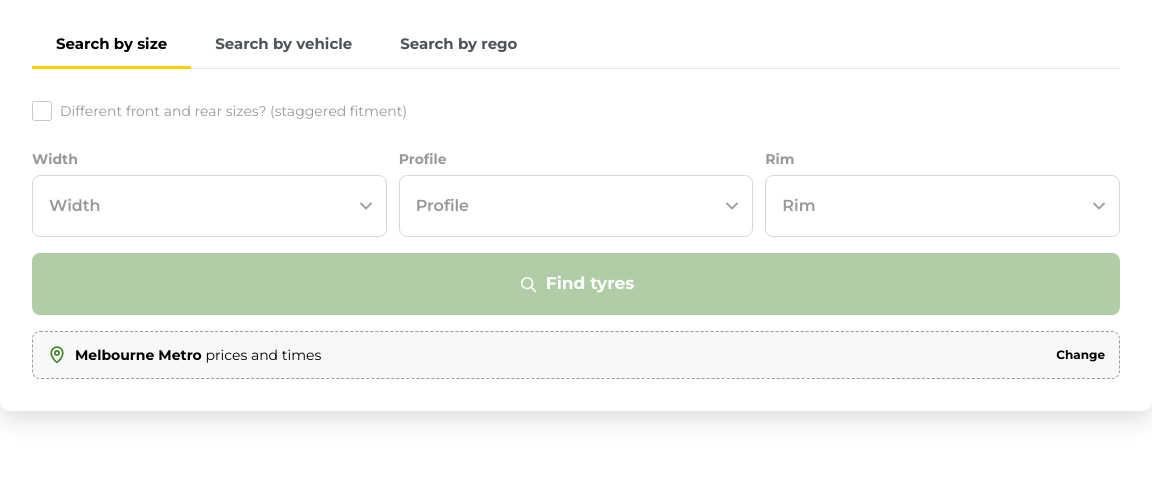
Test: Rego tab › asks for a plate, then a state
The image size is (1152, 504).
Click the tab "Search by rego" at (459, 45), box [376, 21, 542, 69]
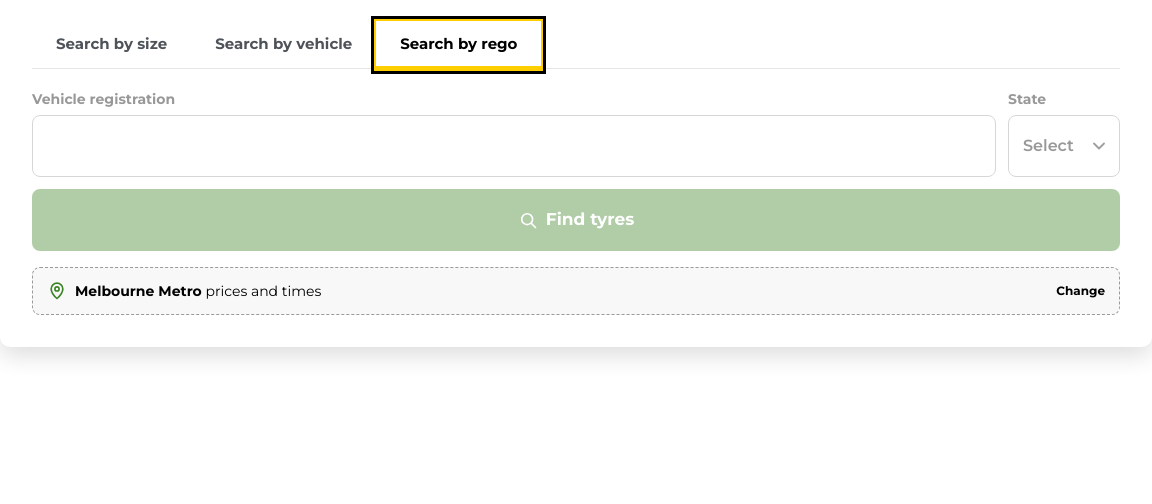
Click the button "Find tyres" at (576, 220), box [32, 189, 1120, 251]
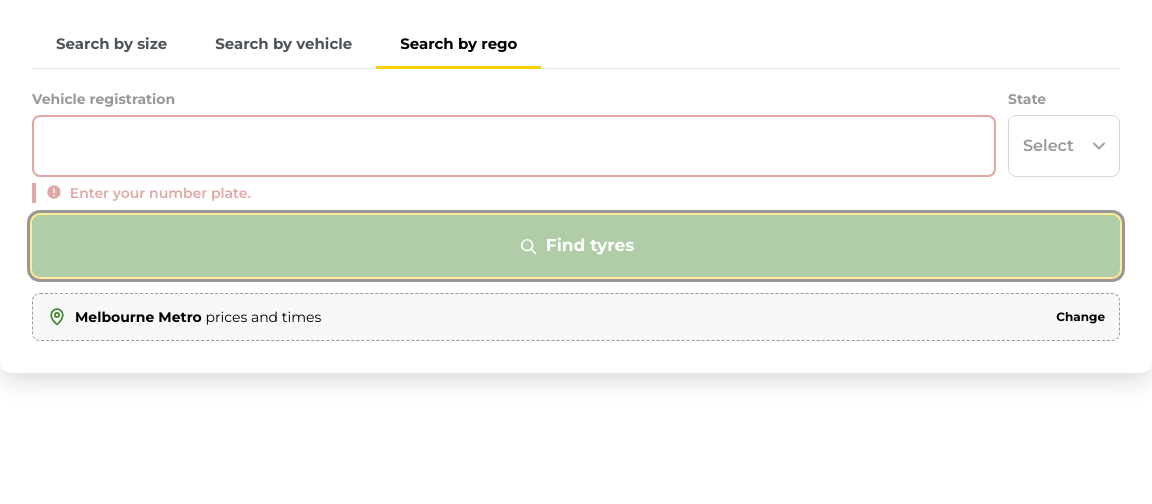
Check: the text "Enter your number plate." is shown, box [32, 183, 996, 203]
Type "abc123" into the field labelled "Vehicle registration" at (514, 146), box [32, 115, 996, 177]
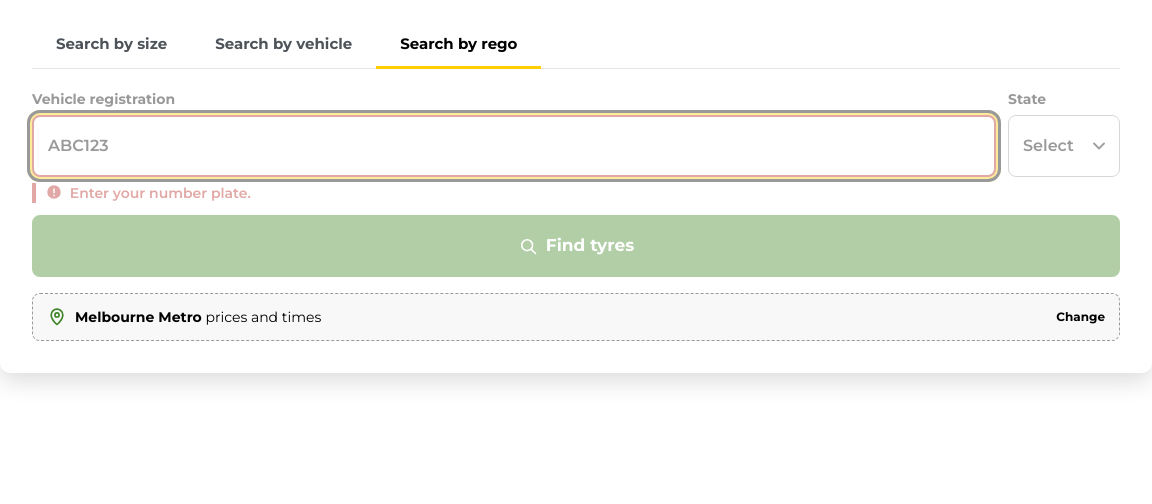
Click the button "Find tyres" at (576, 246), box [32, 215, 1120, 277]
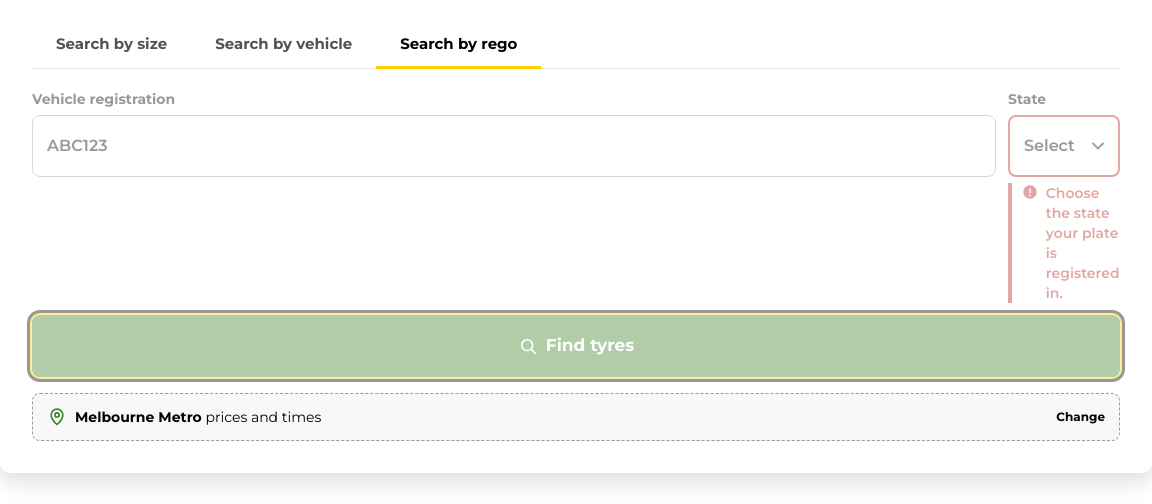
Check: the text "Choose the state your plate is registered in." is shown, box [1008, 183, 1120, 303]
